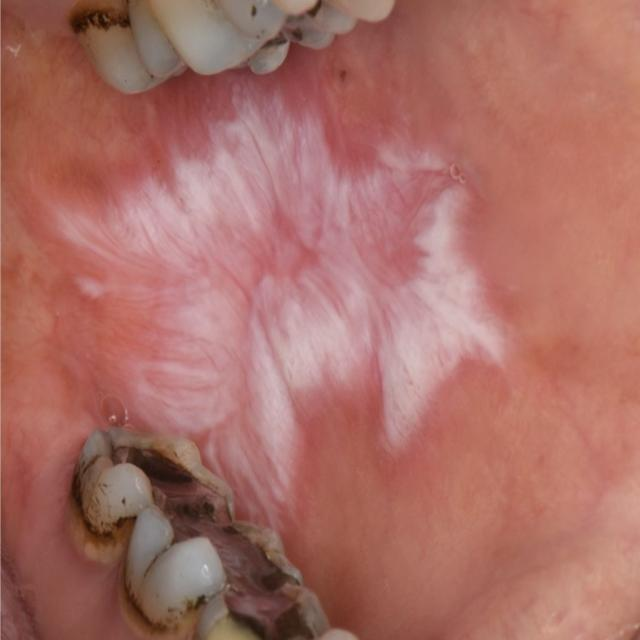leukoplakia-like-detection: (44, 73, 524, 547)
processing_area: (4, 0, 639, 639)
